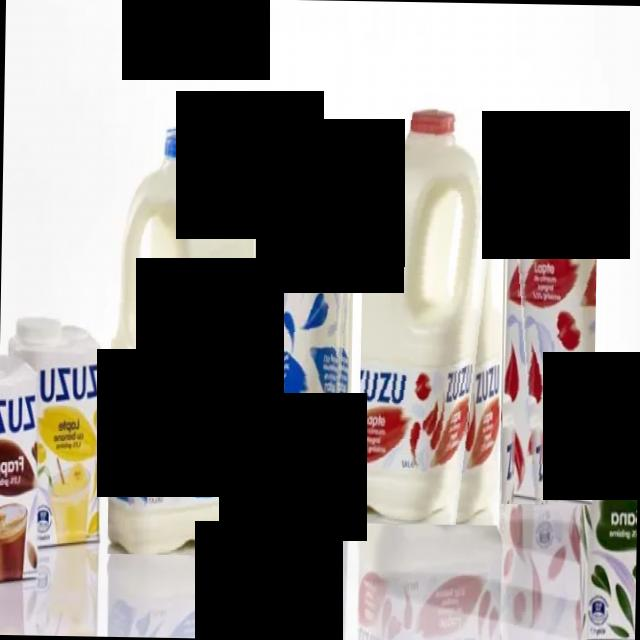milk: (106, 123, 258, 556), (358, 106, 506, 526), (250, 137, 355, 538), (501, 120, 598, 504)
